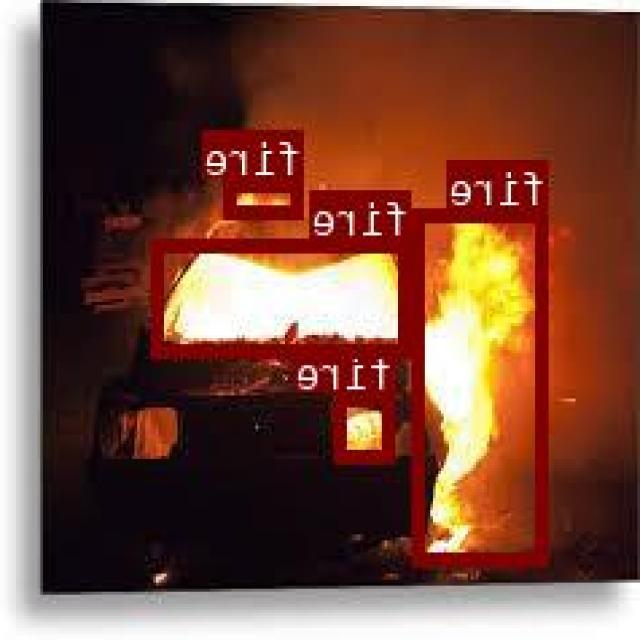fire: (417, 206, 550, 563), (156, 238, 412, 354), (337, 392, 398, 461), (227, 176, 306, 215)
